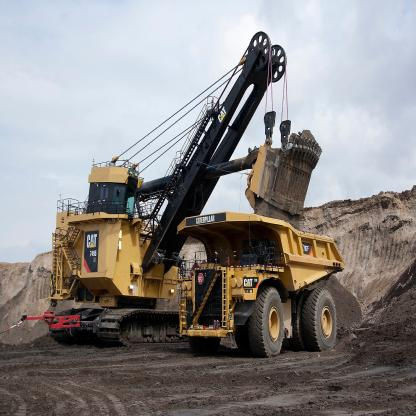dump_truck: (174, 206, 350, 357)
